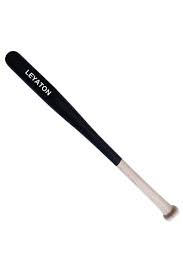baseball bat: (5, 51, 179, 222)
